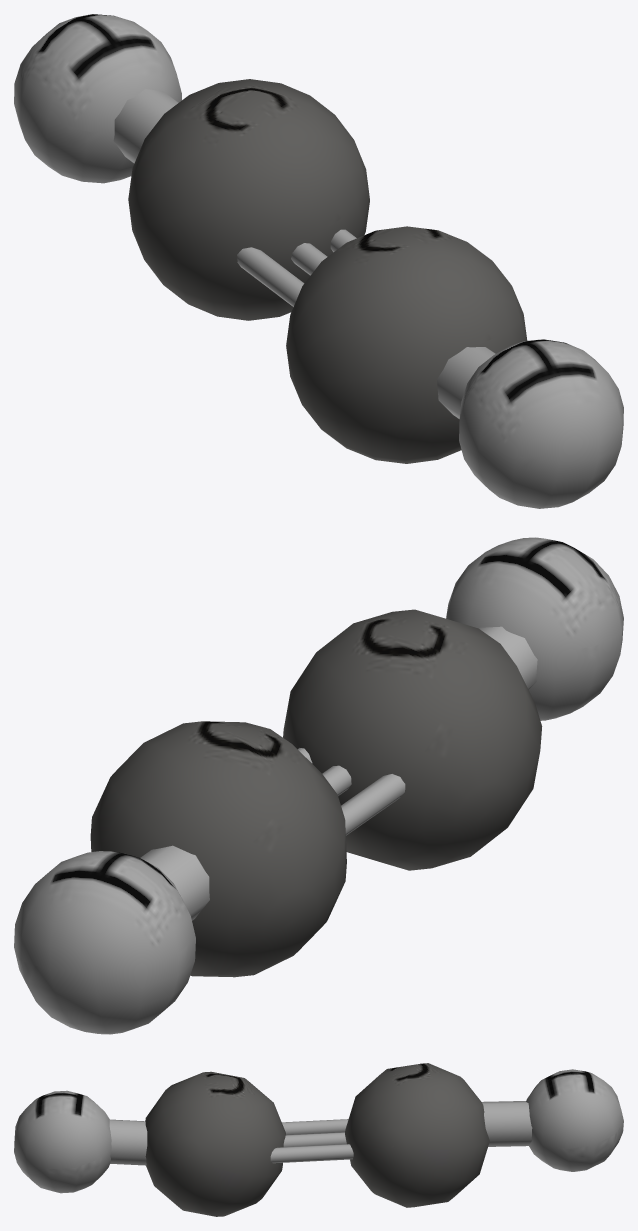
The model's file is Ethyne.fbx.
The picture shows the model from 3 angles, top to bottom: view 1: azimuth 30°, elevation 25°; view 2: azimuth 150°, elevation 25°; view 3: azimuth 270°, elevation 25°; orthographic projection. The views are drawn at different scales.
Visible parts, largest first — view 1: pSphere211, pSphere212, pSphere208, pSphere209, pCylinder17, pCylinder16, pCylinder18, pCylinder15; view 2: pSphere212, pSphere211, pSphere209, pSphere208, pCylinder17, pCylinder18, pCylinder16; view 3: pSphere211, pSphere212, pSphere208, pSphere209, pCylinder17, pCylinder16, pCylinder14, pCylinder18, pCylinder15.
Part boxes in pixels (bbox=[...]): pSphere211: bbox=[128, 79, 369, 320]; pSphere212: bbox=[286, 226, 527, 463]; pSphere208: bbox=[459, 339, 623, 508]; pSphere209: bbox=[14, 14, 181, 183]; pCylinder17: bbox=[113, 89, 178, 163]; pCylinder16: bbox=[437, 347, 495, 418]; pCylinder18: bbox=[237, 247, 304, 306]; pCylinder15: bbox=[291, 243, 327, 275]; pSphere212: bbox=[283, 609, 542, 870]; pSphere211: bbox=[90, 721, 346, 977]; pSphere209: bbox=[14, 851, 195, 1034]; pSphere208: bbox=[446, 537, 623, 720]; pCylinder17: bbox=[140, 845, 209, 920]; pCylinder18: bbox=[341, 774, 405, 835]; pCylinder16: bbox=[479, 626, 537, 689]; pSphere211: bbox=[345, 1063, 489, 1207]; pSphere212: bbox=[145, 1071, 285, 1216]; pSphere208: bbox=[14, 1090, 111, 1193]; pSphere209: bbox=[526, 1069, 623, 1171]; pCylinder17: bbox=[482, 1101, 532, 1146]; pCylinder16: bbox=[109, 1119, 147, 1165]; pCylinder14: bbox=[270, 1144, 353, 1163]; pCylinder18: bbox=[282, 1119, 348, 1135]; pCylinder15: bbox=[283, 1132, 346, 1147].
Bounding box in the file's own units: 0.0962 × 0.0988 × 0.3832.
2 materials, 1 textured.
